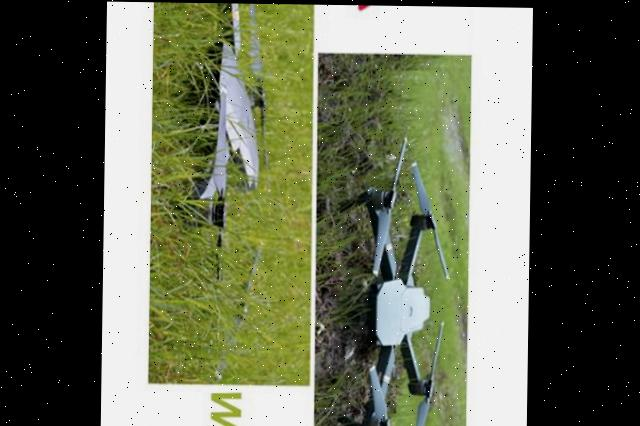drone: (315, 119, 470, 426), (170, 2, 284, 315)
